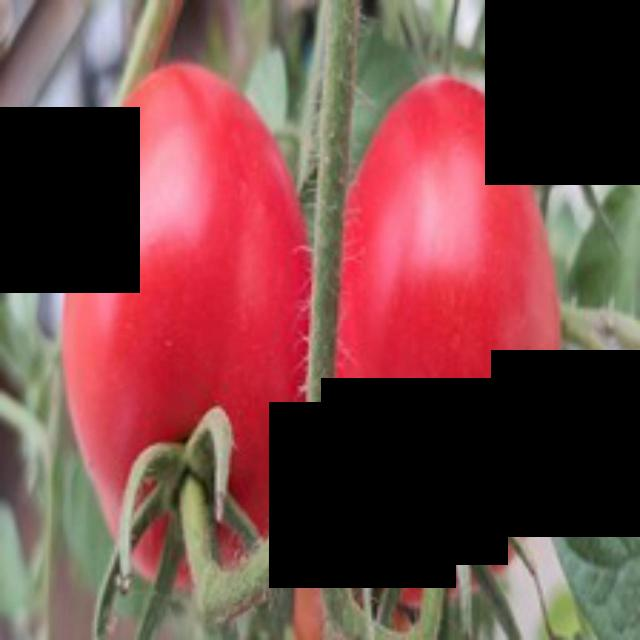tomato: (62, 68, 323, 566), (346, 81, 561, 609)
